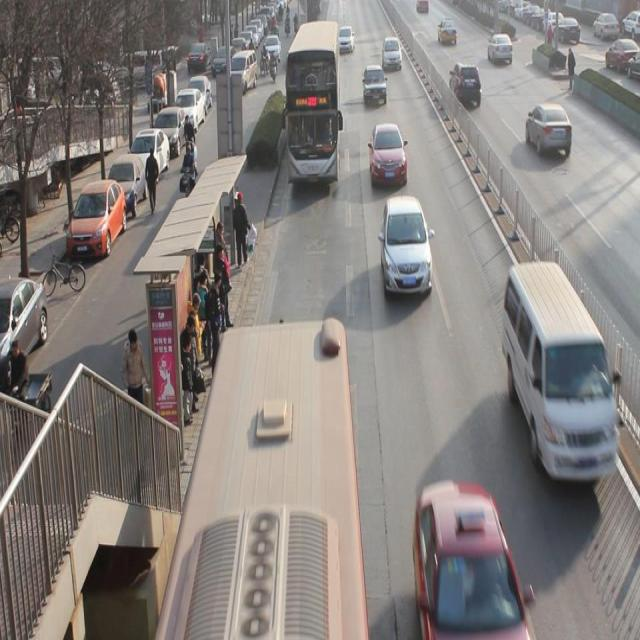car: (413, 489, 529, 626), (382, 200, 433, 296), (367, 127, 410, 187), (525, 104, 574, 154), (291, 64, 341, 110), (453, 64, 482, 107), (361, 66, 388, 101), (380, 36, 404, 74), (488, 34, 516, 66), (437, 18, 457, 45), (338, 25, 356, 52)
truck: (503, 270, 621, 482)
van: (158, 319, 366, 640), (284, 22, 339, 182)
